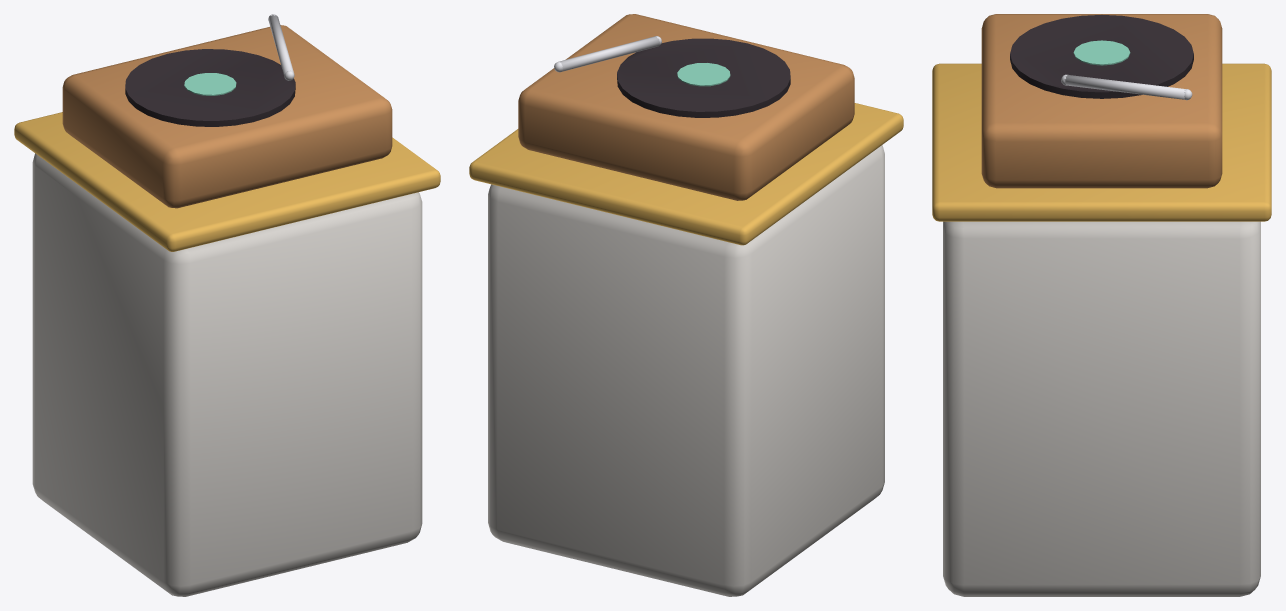
The model's file is gift-sol.glb.
3 views of the same model, side by side, from view 1: azimuth 30°, elevation 25°; view 2: azimuth 150°, elevation 25°; view 3: azimuth 270°, elevation 25° (orthographic). The views are drawn at different scales.
Parts seen in each view (by area): view 1: gift-sol; view 2: gift-sol; view 3: gift-sol.
Part boxes in pixels (<box>): gift-sol: <box>14,14,440,596</box>; gift-sol: <box>469,14,903,596</box>; gift-sol: <box>932,14,1271,596</box>.
Size of the model in its own units: 0.48 by 0.768 by 0.48.
